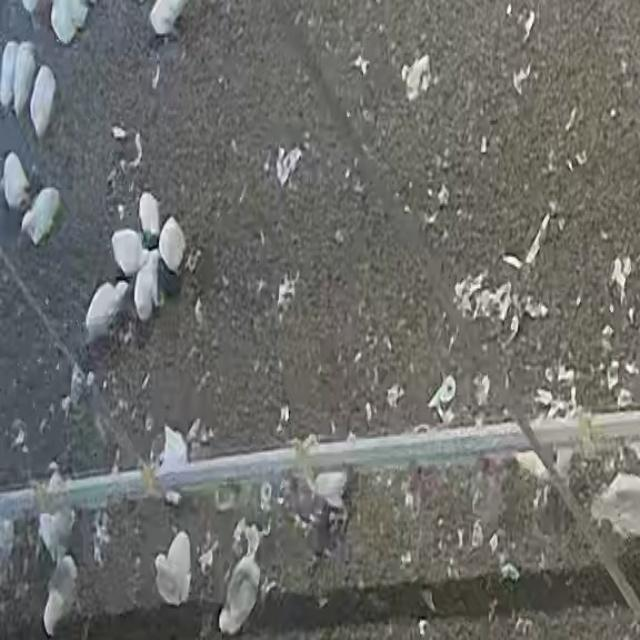chicken: (219, 554, 262, 634), (152, 530, 197, 606), (297, 452, 350, 512), (80, 281, 130, 344), (37, 479, 76, 556), (153, 425, 191, 504), (43, 553, 79, 635), (469, 457, 507, 532), (22, 188, 64, 247), (29, 64, 57, 137), (12, 44, 38, 120), (134, 253, 162, 322), (2, 150, 31, 210), (148, 0, 193, 38), (110, 226, 144, 276), (159, 217, 186, 271), (0, 40, 20, 109), (138, 192, 162, 242), (514, 450, 550, 482), (68, 366, 93, 410)
